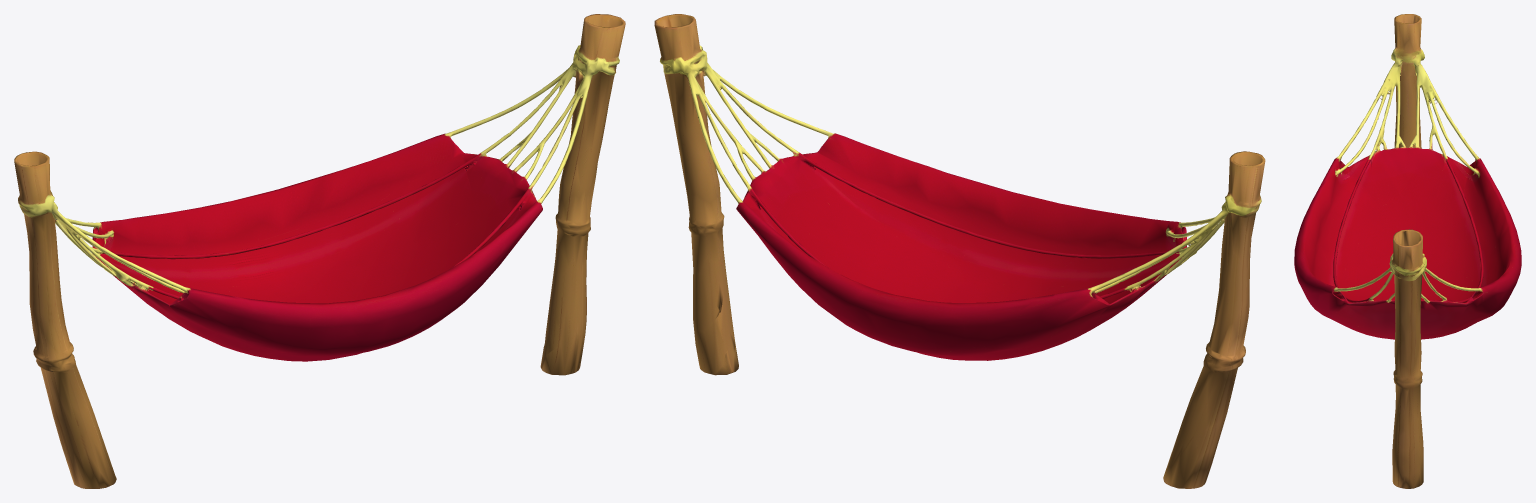
The model's file is hammock.glb.
3 renders of one model, left to right at view 1: azimuth 30°, elevation 25°; view 2: azimuth 150°, elevation 25°; view 3: azimuth 270°, elevation 25°, orthographic. The views are drawn at different scales.
Size of the model in its own units: 1.91 by 1.02 by 0.7969.
1 material, 1 textured.
